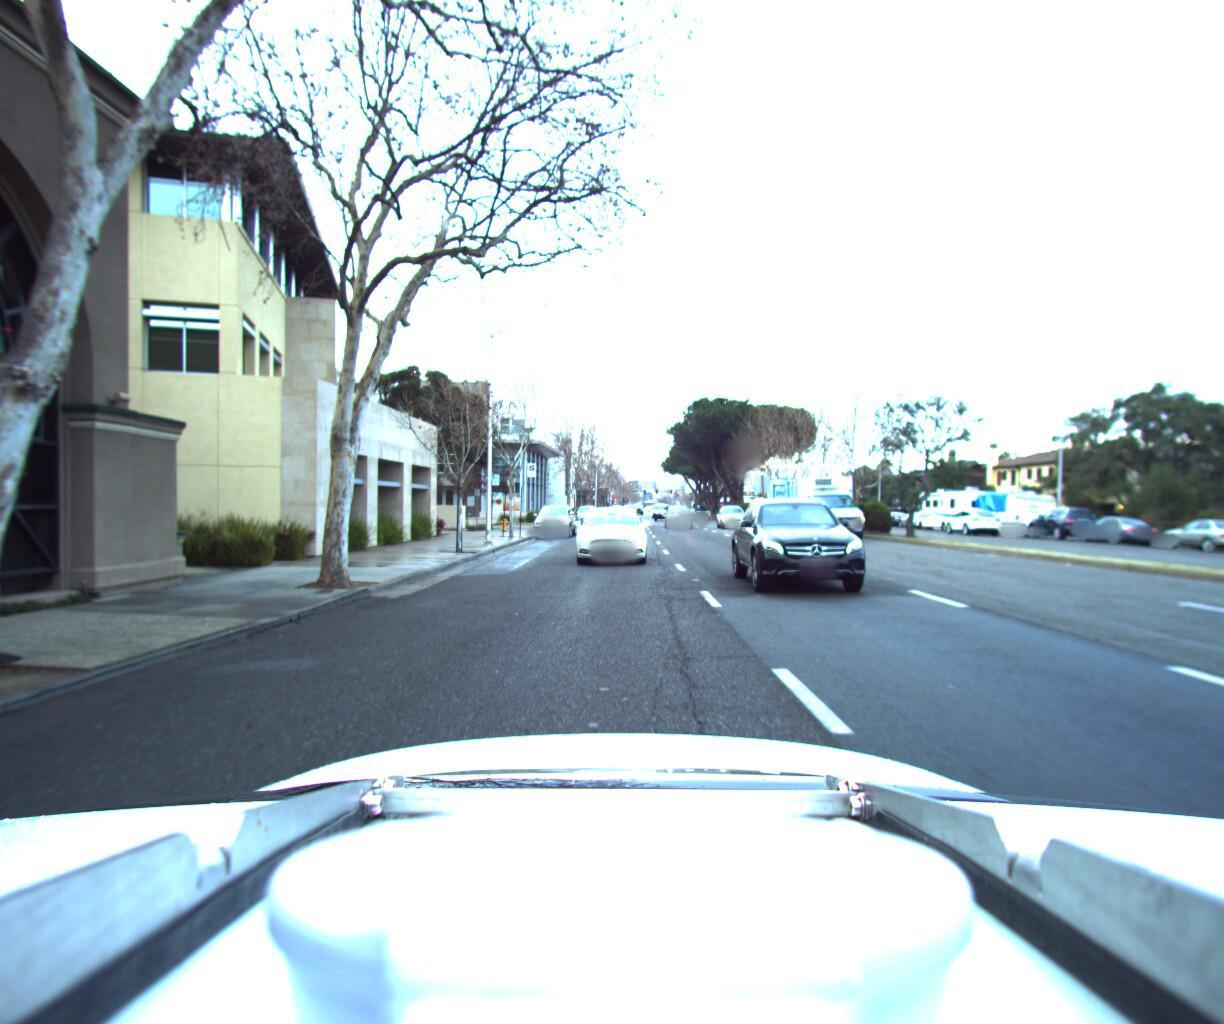car: (734, 491, 907, 606), (571, 499, 647, 562), (1024, 497, 1109, 541), (1070, 507, 1163, 545), (1155, 511, 1224, 548), (932, 501, 998, 529), (531, 495, 575, 532), (713, 496, 753, 526), (662, 501, 700, 526), (573, 496, 599, 517), (689, 501, 710, 517)
other_vehicle: (968, 479, 1058, 539), (910, 475, 1001, 526)
truck: (768, 460, 882, 536)
